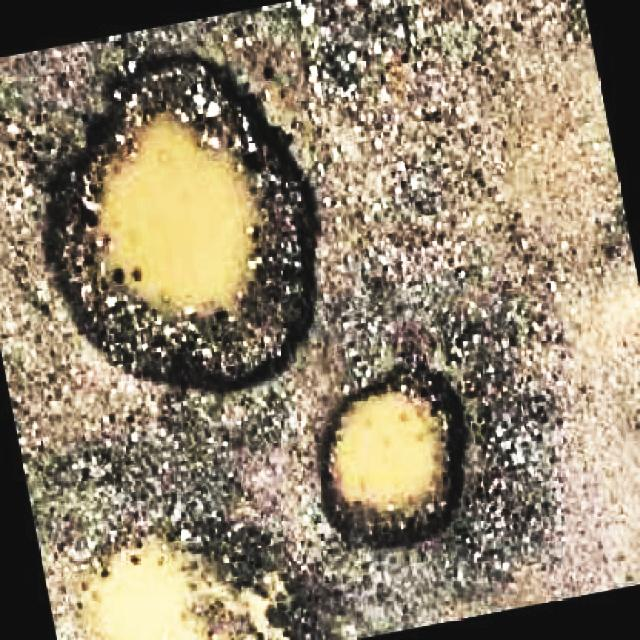pothole: (41, 42, 334, 396), (66, 509, 314, 640), (322, 354, 476, 551)
